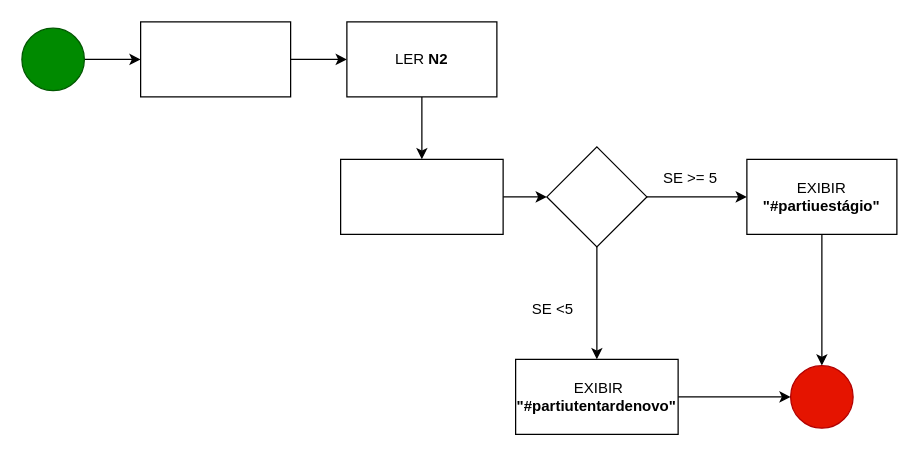
This 919x456 diagram has some shape labels left out. Here are the shapes that lost their labels. From the top down, the centre of each, then its label:
At pixel 215 59: "LER N1".
At pixel 421 196: "MEDIA: ( N1 + N2 ) / 2".
